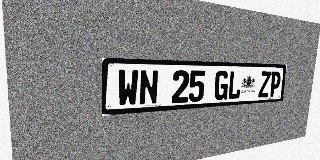2: (172, 70, 190, 103)
5: (188, 70, 205, 102)
G: (214, 71, 229, 100)
L: (227, 71, 242, 100)
N: (139, 70, 159, 105)
P: (269, 71, 281, 97)
W: (117, 69, 139, 107)
Z: (258, 71, 271, 98)
